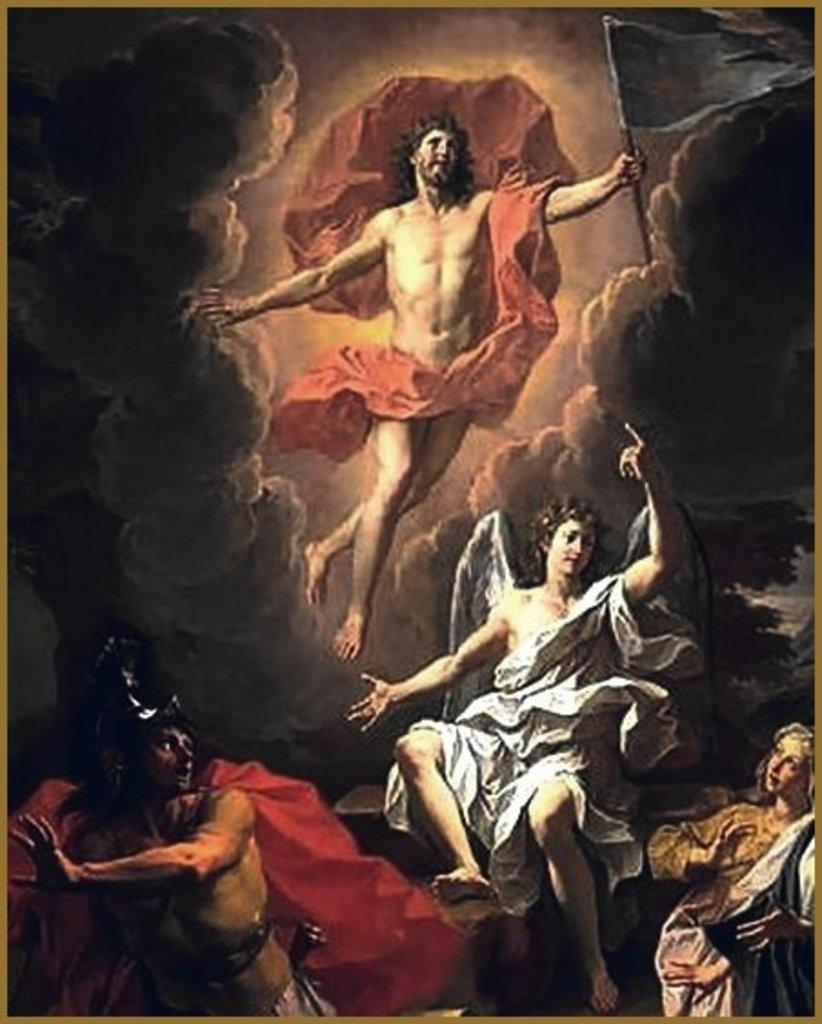Sem Máscara: (142, 718, 195, 787), (550, 515, 592, 571), (762, 733, 802, 789), (416, 127, 458, 176)
